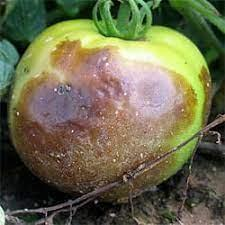tomato late blight: (9, 20, 213, 201)
